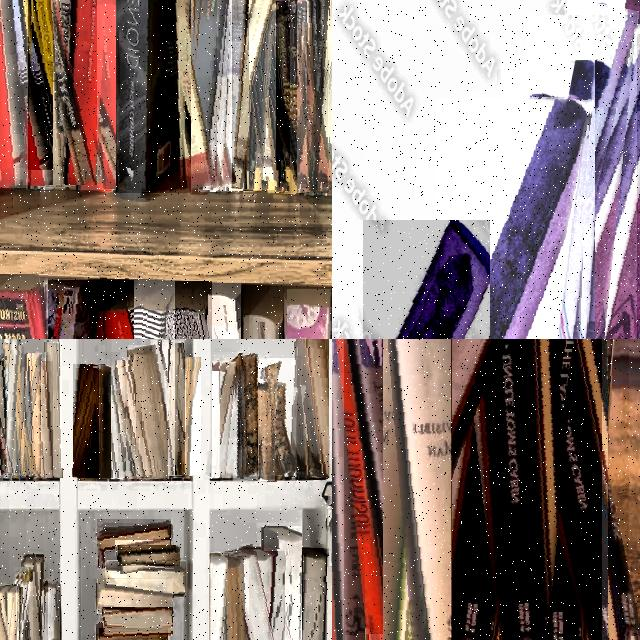Books: (366, 339, 493, 640), (527, 15, 636, 339), (459, 98, 588, 339), (516, 339, 608, 640), (560, 86, 640, 339), (525, 61, 594, 339), (390, 339, 451, 640), (554, 339, 601, 640), (576, 130, 640, 339), (150, 0, 217, 189), (116, 0, 176, 193), (393, 220, 489, 339), (345, 339, 383, 634), (38, 0, 96, 185), (222, 0, 273, 190), (241, 1, 289, 170), (276, 0, 316, 193), (11, 0, 53, 170), (81, 0, 115, 190), (198, 0, 230, 192), (36, 0, 65, 186), (128, 346, 167, 479), (253, 359, 296, 476), (295, 339, 329, 478), (222, 0, 247, 189), (224, 552, 273, 640), (264, 527, 302, 640), (304, 45, 332, 195), (307, 0, 327, 193), (73, 364, 105, 478), (97, 519, 171, 568), (43, 281, 105, 339), (279, 0, 296, 193), (151, 340, 174, 476), (13, 359, 40, 474), (176, 358, 201, 475), (125, 281, 175, 339), (0, 275, 45, 339), (2, 346, 23, 476), (0, 340, 20, 476), (213, 361, 236, 478), (109, 373, 135, 476), (97, 579, 172, 614), (105, 561, 185, 593), (102, 369, 125, 479), (31, 0, 44, 189), (166, 282, 209, 339), (115, 361, 136, 477), (239, 354, 258, 478), (302, 548, 327, 640), (287, 289, 332, 339), (24, 354, 42, 476), (45, 342, 61, 478), (222, 557, 246, 640), (35, 361, 52, 478), (102, 607, 173, 634), (101, 280, 133, 339), (171, 344, 185, 477), (22, 555, 42, 640), (212, 284, 241, 339), (211, 554, 228, 640), (260, 380, 274, 481), (99, 366, 111, 478), (14, 567, 32, 640), (118, 545, 179, 566), (44, 583, 59, 640), (115, 541, 170, 556), (99, 628, 167, 640), (212, 372, 219, 477), (10, 588, 21, 640), (0, 359, 3, 478), (0, 426, 6, 473), (259, 322, 264, 339)
